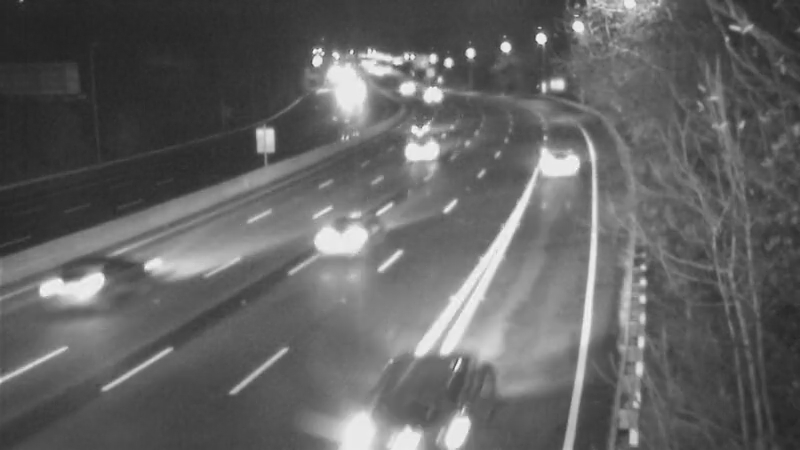vehicle: (361, 354, 471, 450), (515, 128, 595, 208), (308, 193, 388, 273), (34, 247, 114, 327), (379, 67, 429, 117), (403, 73, 453, 123), (393, 100, 443, 150), (405, 122, 455, 172)
